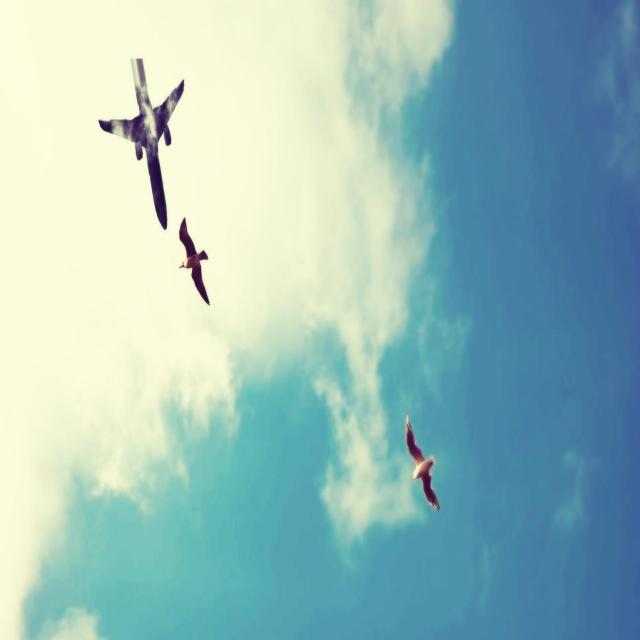airplane: (98, 56, 184, 230)
